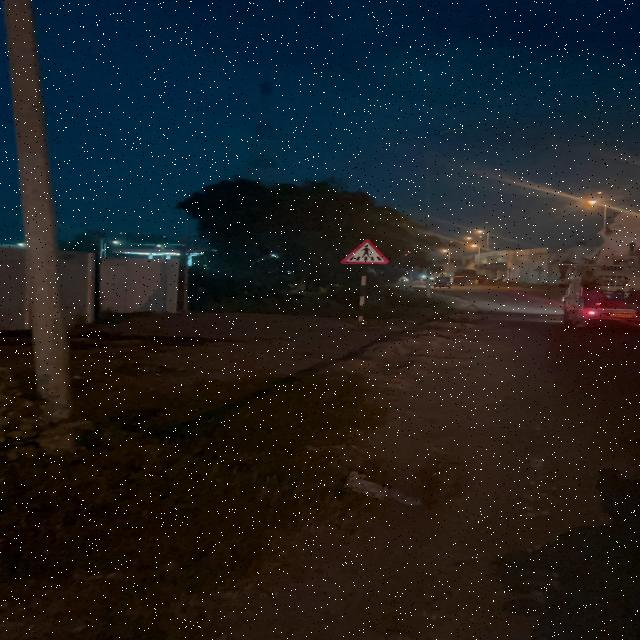Pedestrain_crossing: (337, 236, 392, 268)
